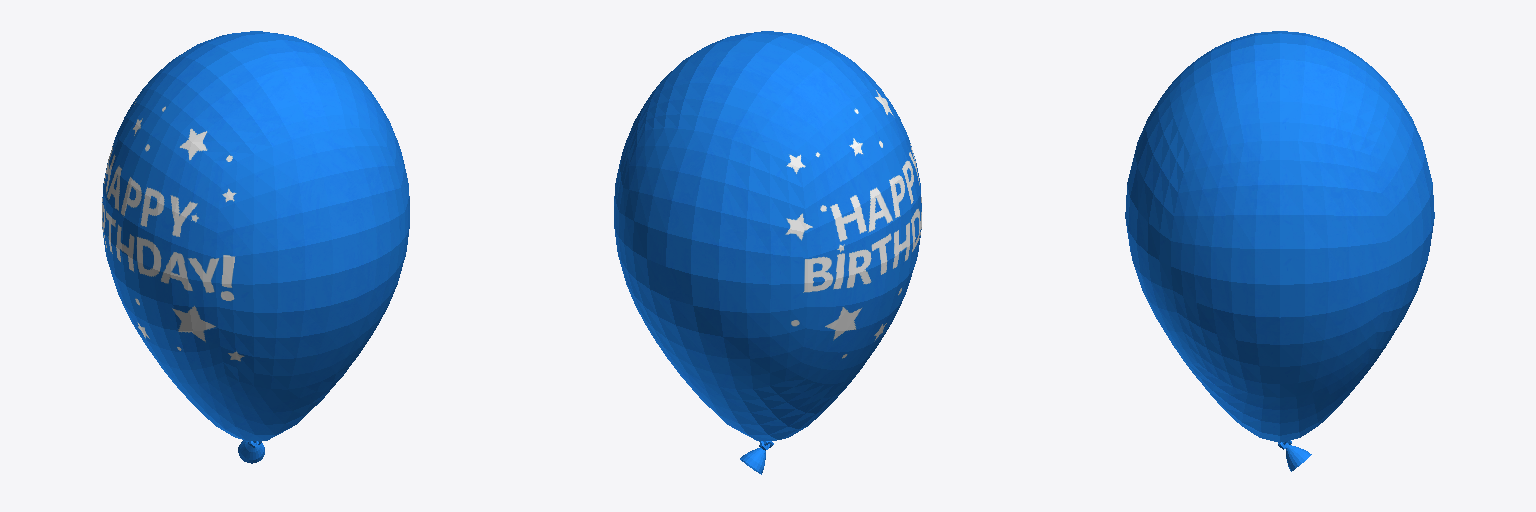
The picture shows the model from 3 angles: view 1: azimuth 30°, elevation 25°; view 2: azimuth 150°, elevation 25°; view 3: azimuth 270°, elevation 25°; orthographic projection.
Parts seen in each view (by area): view 1: ballon_birthday; view 2: ballon_birthday; view 3: ballon_birthday.
Boxes of the visible parts, <box> form: ballon_birthday: <box>102,31,409,463</box>; ballon_birthday: <box>614,31,921,474</box>; ballon_birthday: <box>1125,31,1434,471</box>.
Bounding box in the file's own units: 1.65 × 2.5 × 1.65.
1 materials, 1 textured.